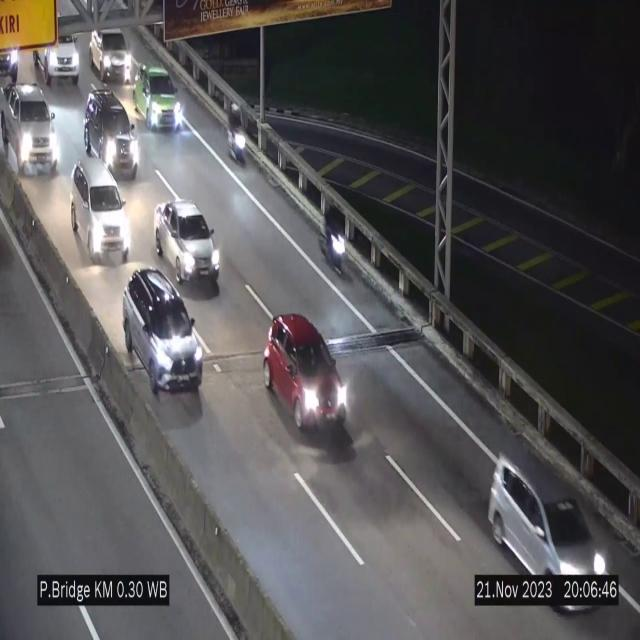Car: (469, 428, 615, 626), (262, 310, 352, 444), (123, 266, 203, 394), (63, 157, 134, 270), (0, 78, 65, 184), (81, 87, 144, 186), (155, 200, 219, 284), (35, 5, 83, 86), (87, 23, 139, 91), (134, 63, 186, 129)
Motorcycle: (321, 202, 349, 284), (226, 96, 251, 175)
Truck: (0, 28, 24, 86)
